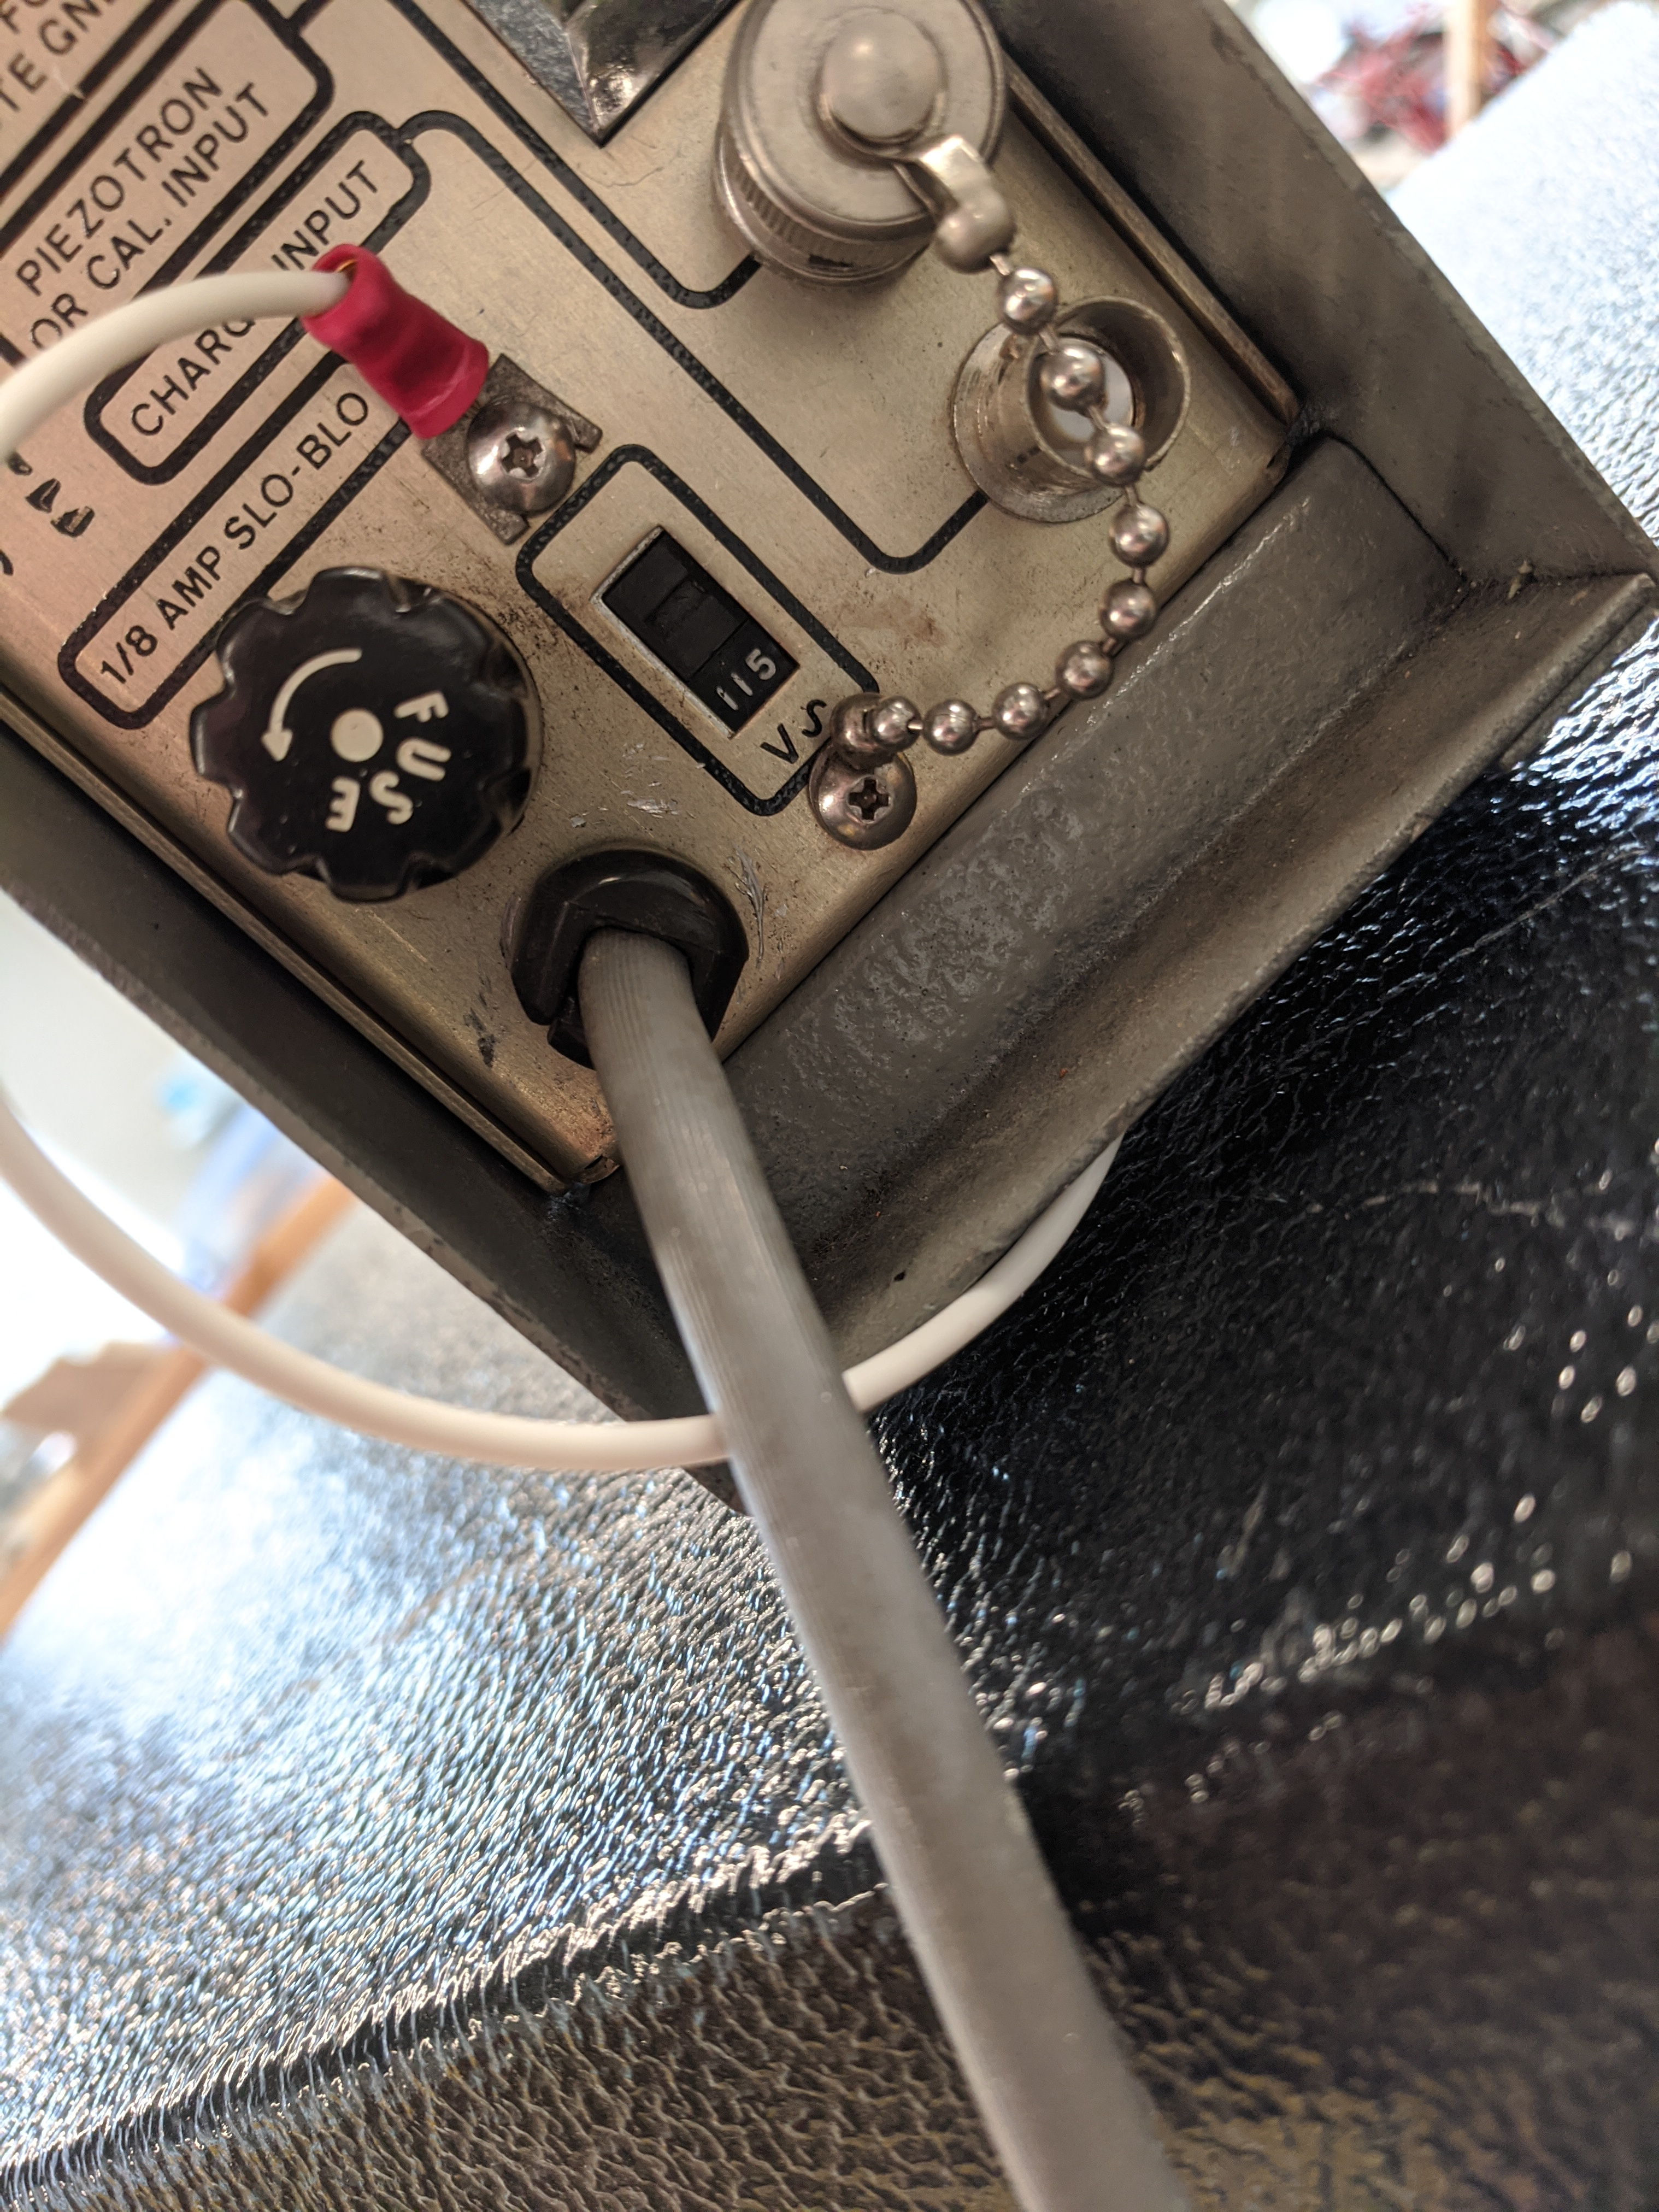cross_recessed_screw: (802, 733, 917, 845), (469, 388, 563, 500)
